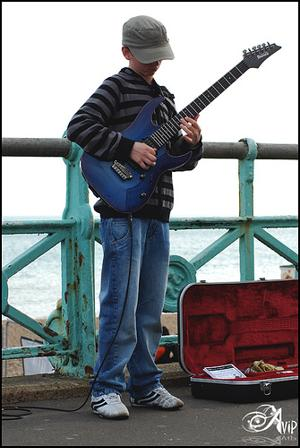person: (67, 17, 204, 419)
